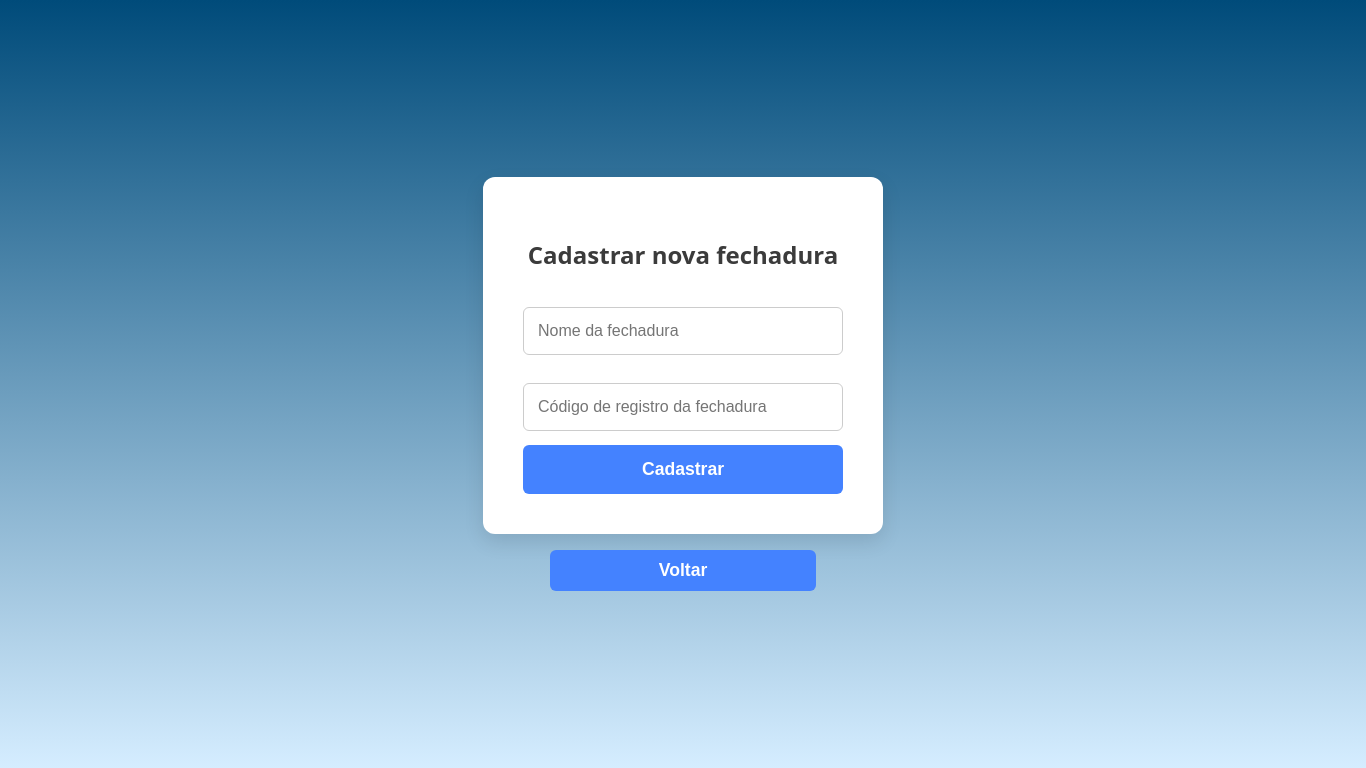
Scenario: RegisterLockPage Component › displays error on failed registration
Type "My Lock" into the field with placeholder "Nome da fechadura".
click(683, 331); type("My Lock")  # box [523,307,843,355]
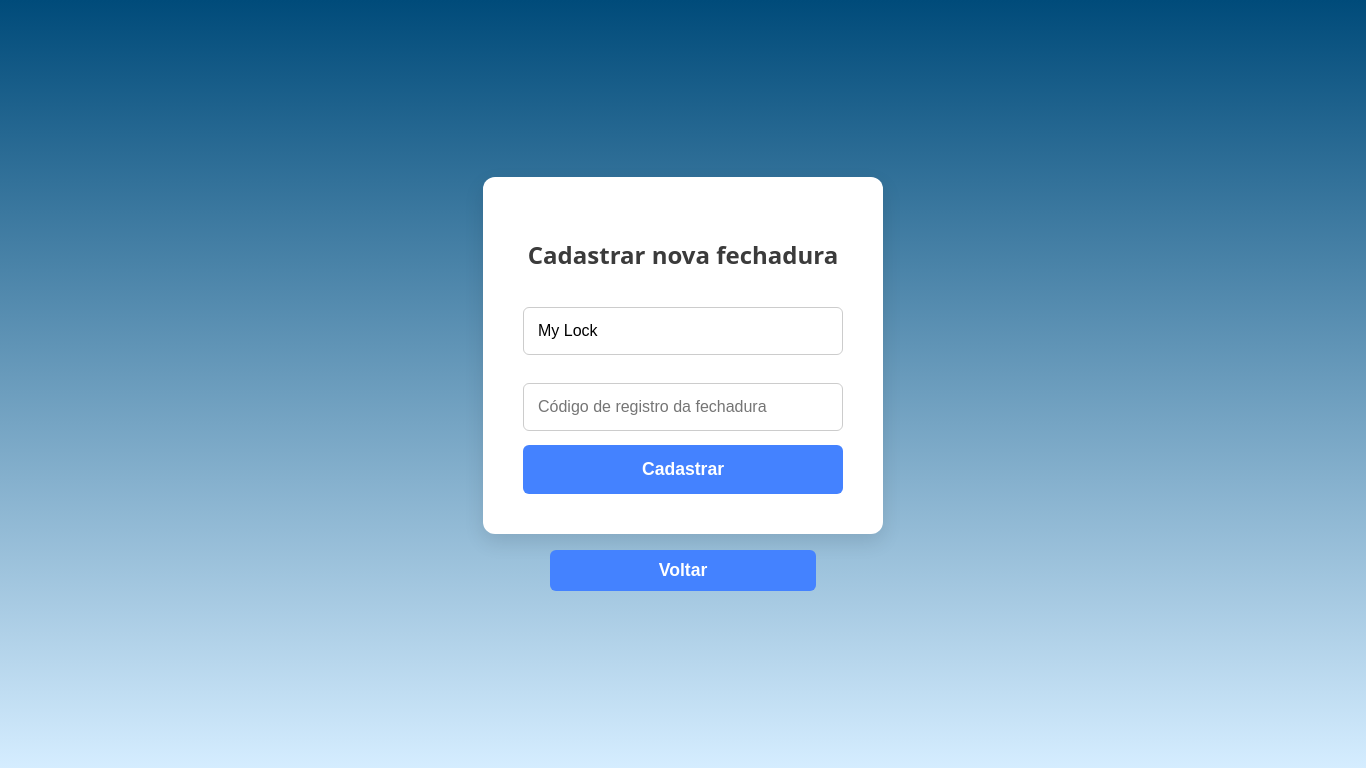
Type "ABC123" into the password field with placeholder "Código de registro da fechadura".
click(683, 407); type("ABC123")  # box [523,383,843,431]
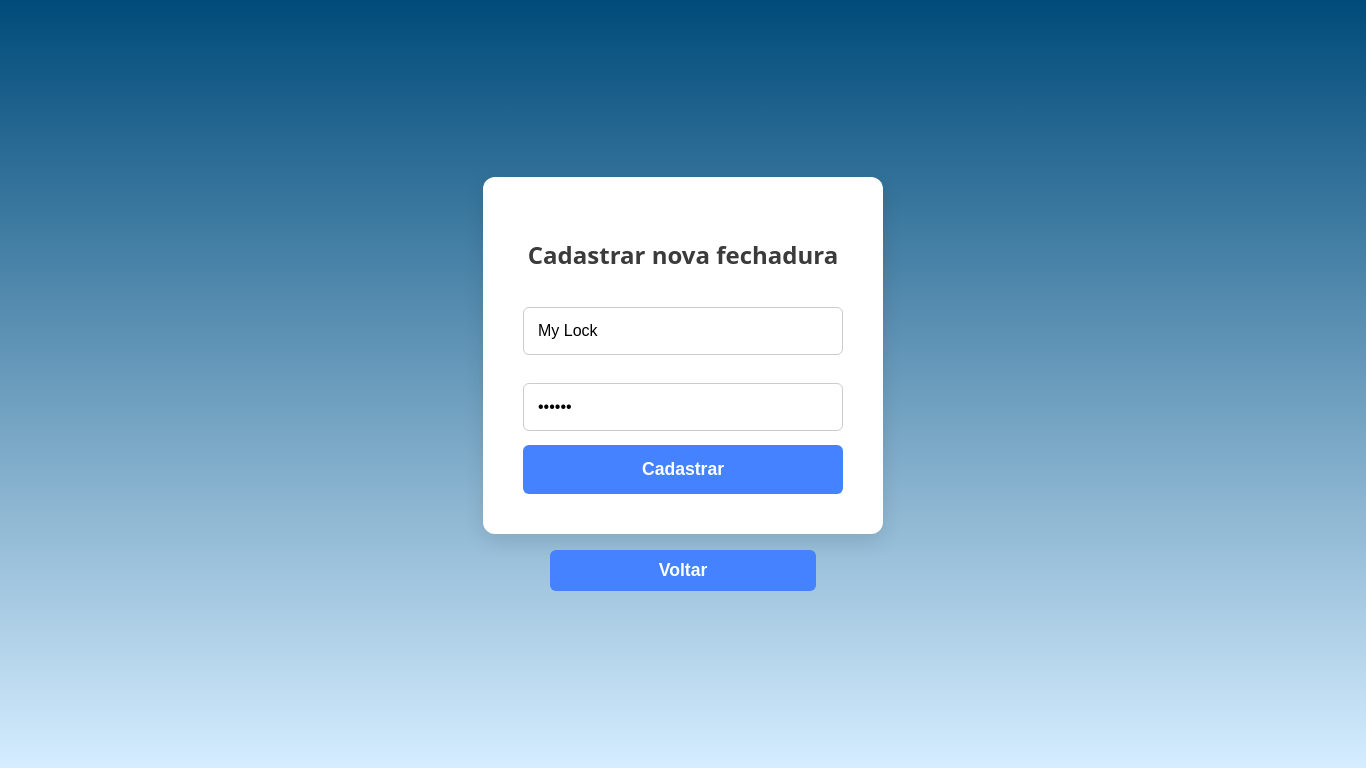
Click the button "Cadastrar".
click(683, 469)  # box [523,445,843,494]
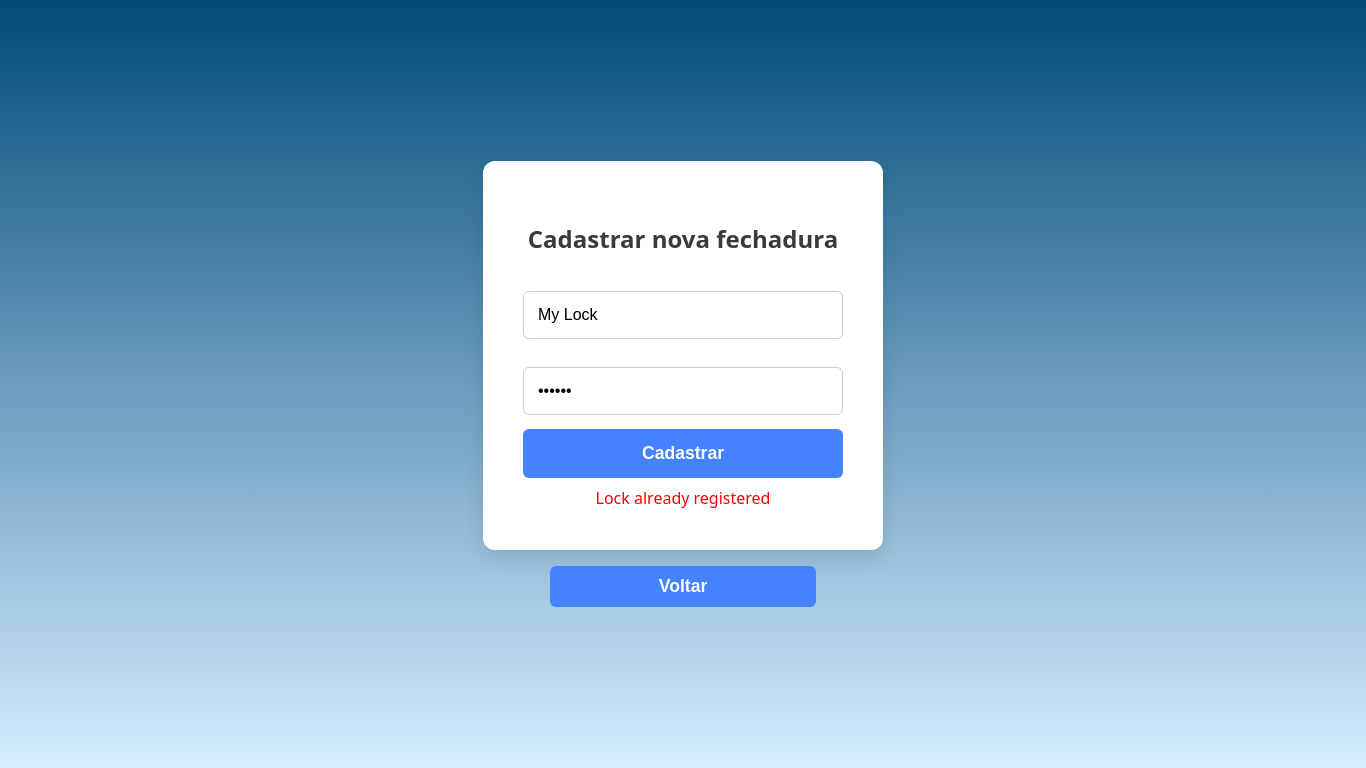
Result: the text "Lock already registered" is shown at [596,487,770,509]
